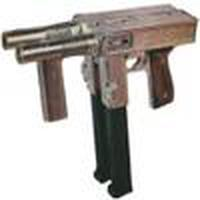gun: (1, 4, 199, 189)
